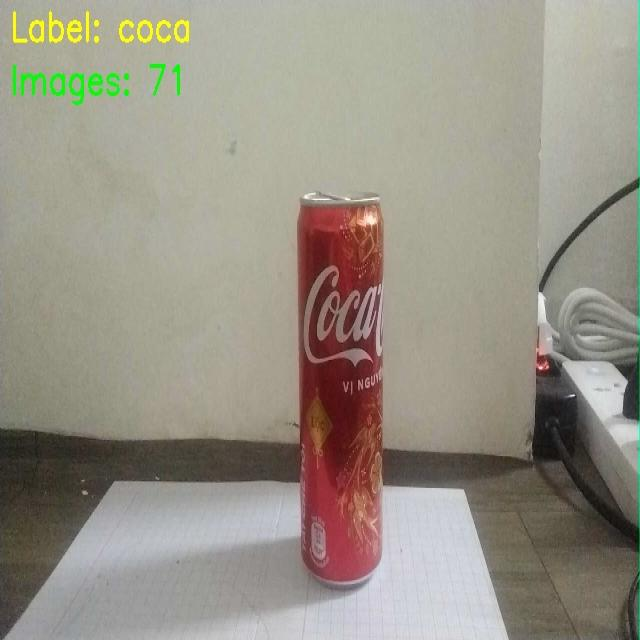Coca: (264, 176, 409, 588)
